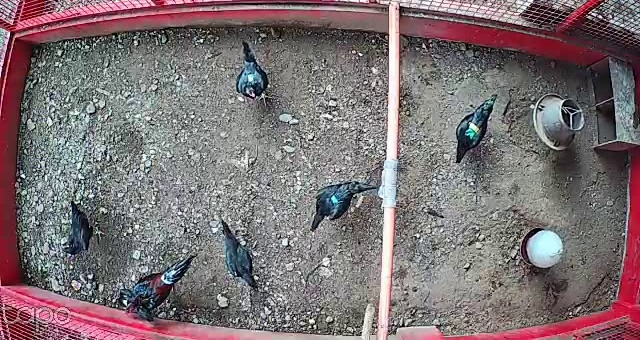Chicken: (307, 170, 376, 236), (453, 93, 502, 166), (231, 35, 279, 109), (216, 216, 260, 291), (61, 196, 109, 260)
Rooster: (123, 249, 199, 318)
Saddle_Color_Blue: (331, 194, 339, 205)
Saddle_Color_YellowGreen: (464, 121, 481, 139)
